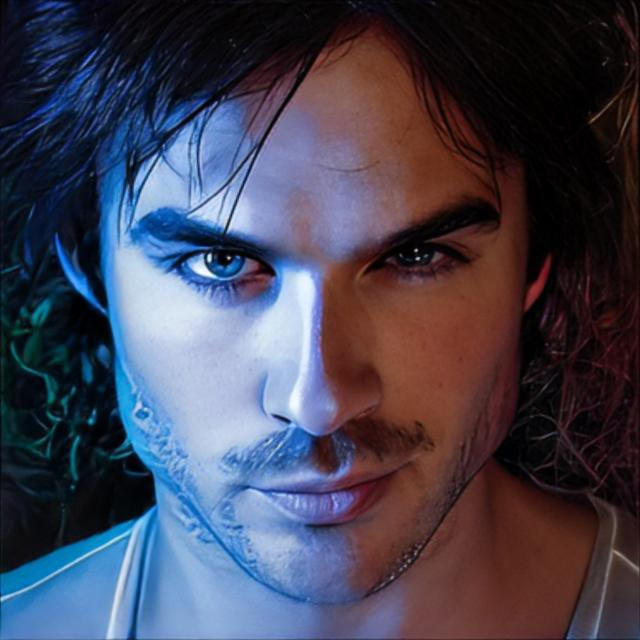content: (98, 0, 531, 609)
